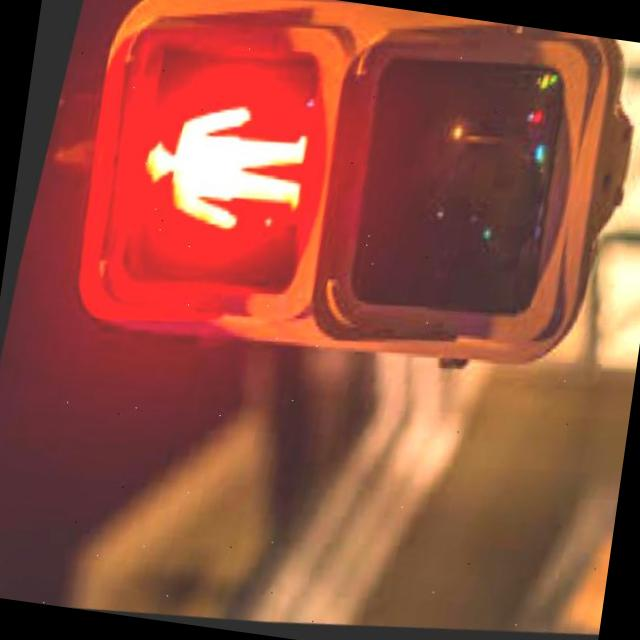red_light: (107, 84, 310, 266)
